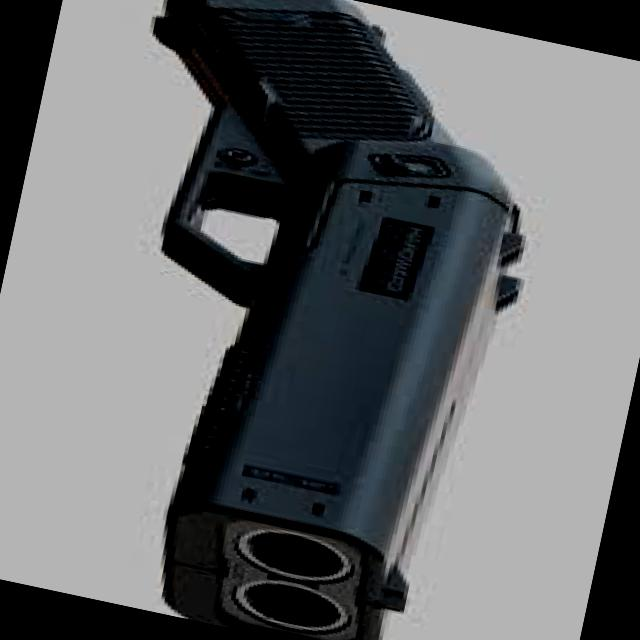long weapon: (123, 0, 559, 640)
